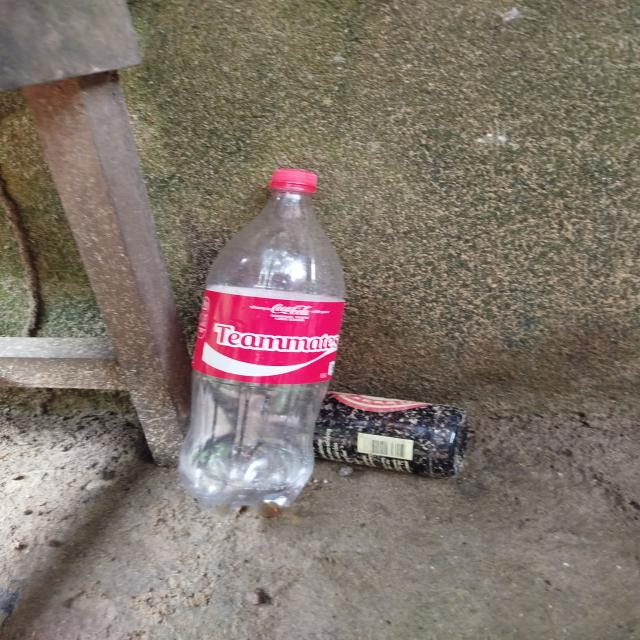glass: (308, 382, 484, 483)
plastic: (175, 156, 354, 514)
